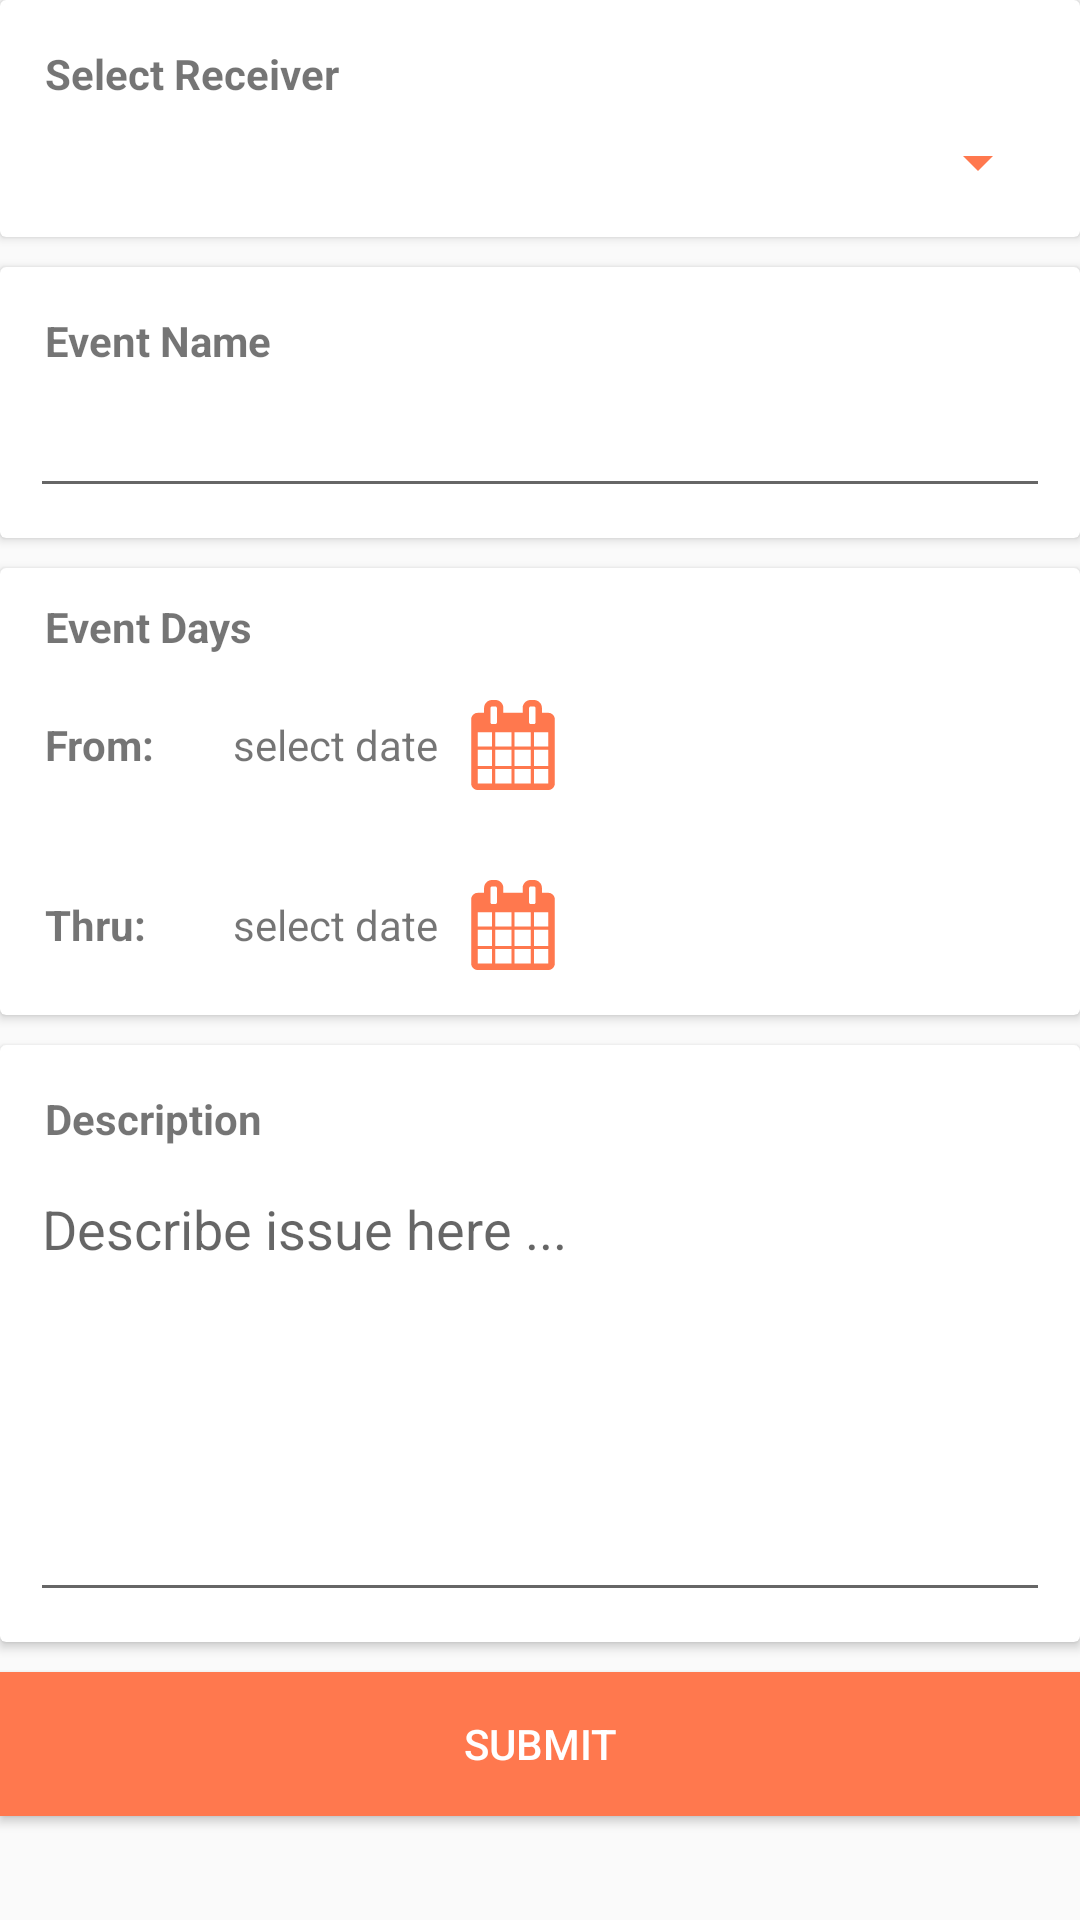

Icons on this 1080 x 1920 Android screen, each with the point to tap as [x,y]:
calendar: [513,745], [513,925]
